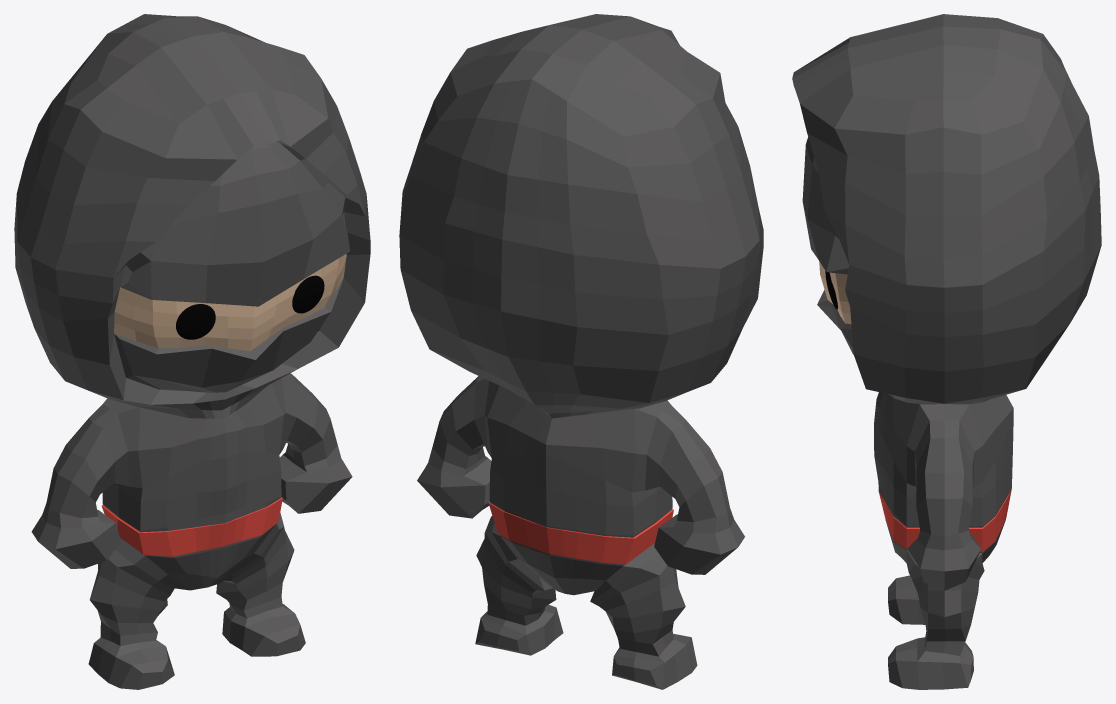
The model's file is ninja.glb.
3 renders of one model, left to right at view 1: azimuth 30°, elevation 25°; view 2: azimuth 150°, elevation 25°; view 3: azimuth 270°, elevation 25°, orthographic. The views are drawn at different scales.
Parts seen in each view (by area): view 1: Cube.001, Sphere.001, Sphere; view 2: Cube.001; view 3: Cube.001.
Part boxes in pixels (x1,y1,x2,y2): Cube.001: [14, 14, 370, 689]; Sphere.001: [176, 304, 215, 339]; Sphere: [292, 275, 324, 313]; Cube.001: [399, 14, 763, 689]; Cube.001: [792, 14, 1101, 689].
Bounding box in the file's own units: 3.69 × 6.72 × 3.06.
